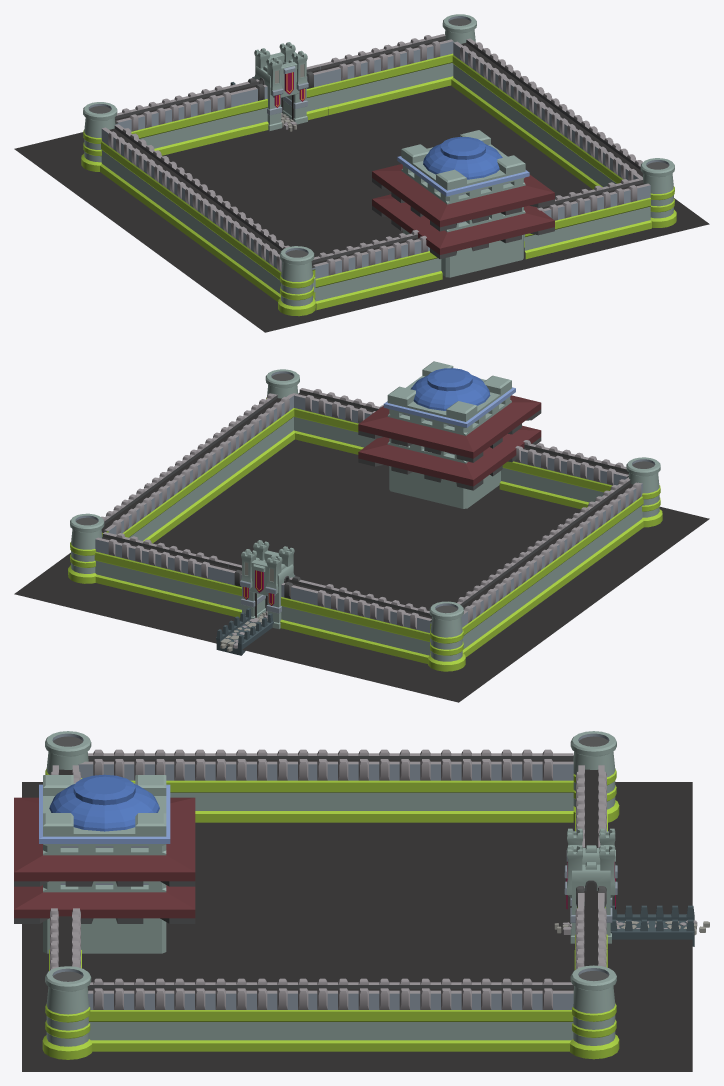
The model's file is castle_wall.gltf.
3 renders of one model, top to bottom at view 1: azimuth 30°, elevation 25°; view 2: azimuth 150°, elevation 25°; view 3: azimuth 270°, elevation 25°, orthographic. The views are drawn at different scales.
Parts seen in each view (by area): view 1: Plane, Palace.tower2_Material_0.001, Wall.long_Material_0.001, Wall.long_Material_0.007, Wall.long_Material_0.008, Wall.long_Material_0.002, Gate_wall, Wall.long_Material_0.003, Wall.long_Material_0.006, Wall.long_Material_0.004, Wall.long_Material_0.010, Wall.long_Material_0.009 (+5 smaller); view 2: Plane, Palace.tower2_Material_0.001, Wall.long_Material_0.001, Wall.long_Material_0.002, Wall.long_Material_0.007, Gate_wall, Wall.long_Material_0.003, Wall.long_Material_0.005, Wall.long_Material_0.008, Wall.long_Material_0.009, Wall.long_Material_0.010, Wall.long_Material_0.004 (+6 smaller); view 3: Plane, Palace.tower2_Material_0.001, Wall.long_Material_0.003, Wall.long_Material_0.006, Wall.long_Material_0.004, Wall.long_Material_0.005, Wall.long_Material_0.010, Wall.long_Material_0.009, Gate_wall, Tower.short_Material_0.003, Tower.short_Material_0.002, Bridge (+5 smaller).
Boxes of the visible parts, x1,y1,x2,y2 form: Plane: (14, 85, 709, 332); Palace.tower2_Material_0.001: (372, 130, 554, 277); Wall.long_Material_0.001: (318, 34, 453, 114); Wall.long_Material_0.007: (311, 230, 442, 310); Wall.long_Material_0.008: (524, 178, 651, 259); Wall.long_Material_0.002: (115, 84, 245, 155); Gate_wall: (235, 42, 328, 135); Wall.long_Material_0.003: (100, 124, 187, 224); Wall.long_Material_0.006: (451, 38, 538, 138); Wall.long_Material_0.004: (160, 170, 248, 269); Wall.long_Material_0.010: (514, 85, 599, 183); Wall.long_Material_0.009: (215, 210, 289, 301); Plane: (14, 439, 709, 702); Palace.tower2_Material_0.001: (358, 361, 541, 508); Wall.long_Material_0.001: (94, 532, 230, 613); Wall.long_Material_0.002: (303, 583, 431, 663); Wall.long_Material_0.007: (499, 440, 628, 509); Gate_wall: (220, 540, 313, 633); Wall.long_Material_0.003: (457, 561, 534, 657); Wall.long_Material_0.005: (212, 393, 295, 489); Wall.long_Material_0.008: (294, 388, 383, 454); Wall.long_Material_0.009: (562, 477, 643, 575); Wall.long_Material_0.010: (157, 430, 244, 528); Wall.long_Material_0.004: (511, 517, 596, 614); Plane: (22, 782, 692, 1071); Palace.tower2_Material_0.001: (14, 774, 195, 953); Wall.long_Material_0.003: (379, 749, 573, 822); Wall.long_Material_0.006: (379, 978, 573, 1051); Wall.long_Material_0.004: (215, 749, 409, 822); Wall.long_Material_0.005: (87, 978, 266, 1051); Wall.long_Material_0.010: (215, 978, 409, 1051); Wall.long_Material_0.009: (78, 749, 266, 822); Gate_wall: (554, 828, 625, 949); Tower.short_Material_0.003: (42, 966, 92, 1059); Tower.short_Material_0.002: (570, 965, 619, 1059); Bridge: (610, 905, 709, 946).
Size of the model in its own units: 35.46 by 8.74 by 35.98.
Materials: 16 (16 with a texture image).
